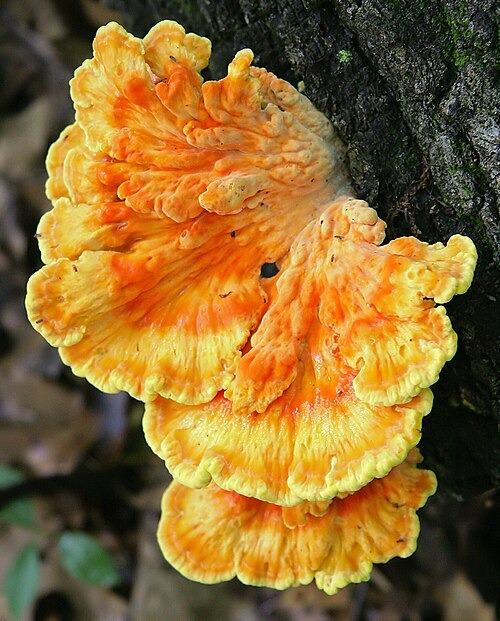Sulphur-yellow tinder fungus: (26, 21, 475, 592), (158, 449, 435, 593)
